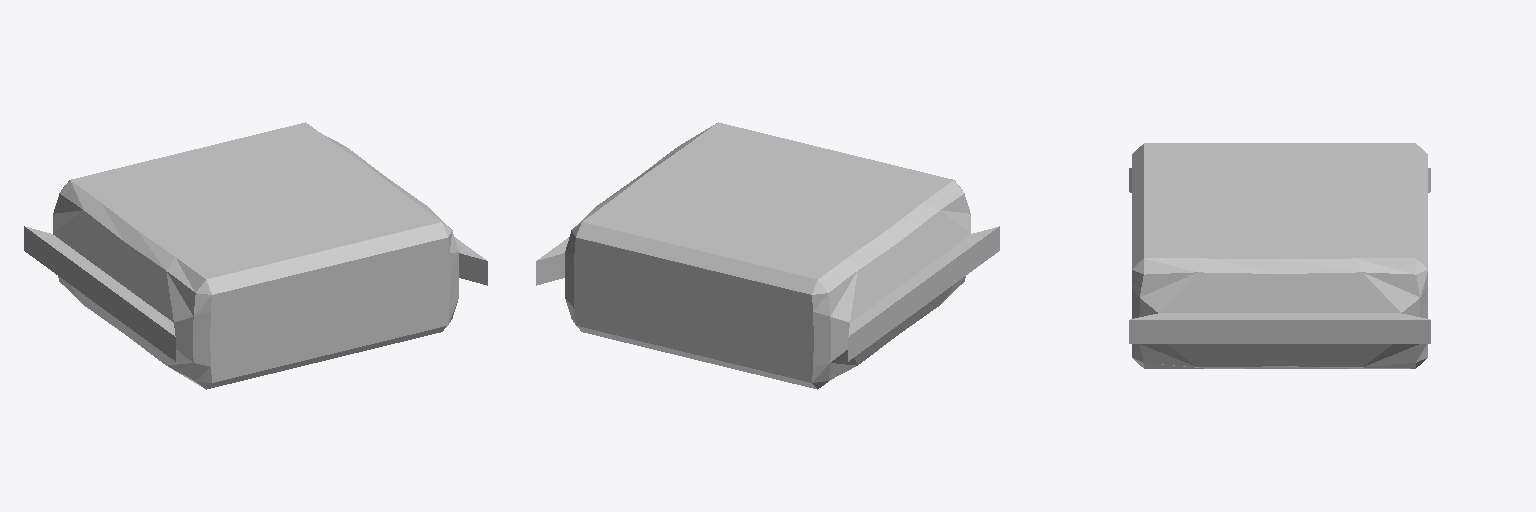
File: RamenPackage.obj
3 renders of one model, left to right at view 1: azimuth 30°, elevation 25°; view 2: azimuth 150°, elevation 25°; view 3: azimuth 270°, elevation 25°, orthographic.
Visible parts, largest first — view 1: RamenPackage; view 2: RamenPackage; view 3: RamenPackage.
Boxes of the visible parts, x1,y1,x2,y2 form: RamenPackage: [24, 122, 487, 389]; RamenPackage: [536, 122, 999, 389]; RamenPackage: [1129, 143, 1430, 368].
Size of the model in its own units: 0.0935 by 0.0316 by 0.0785.